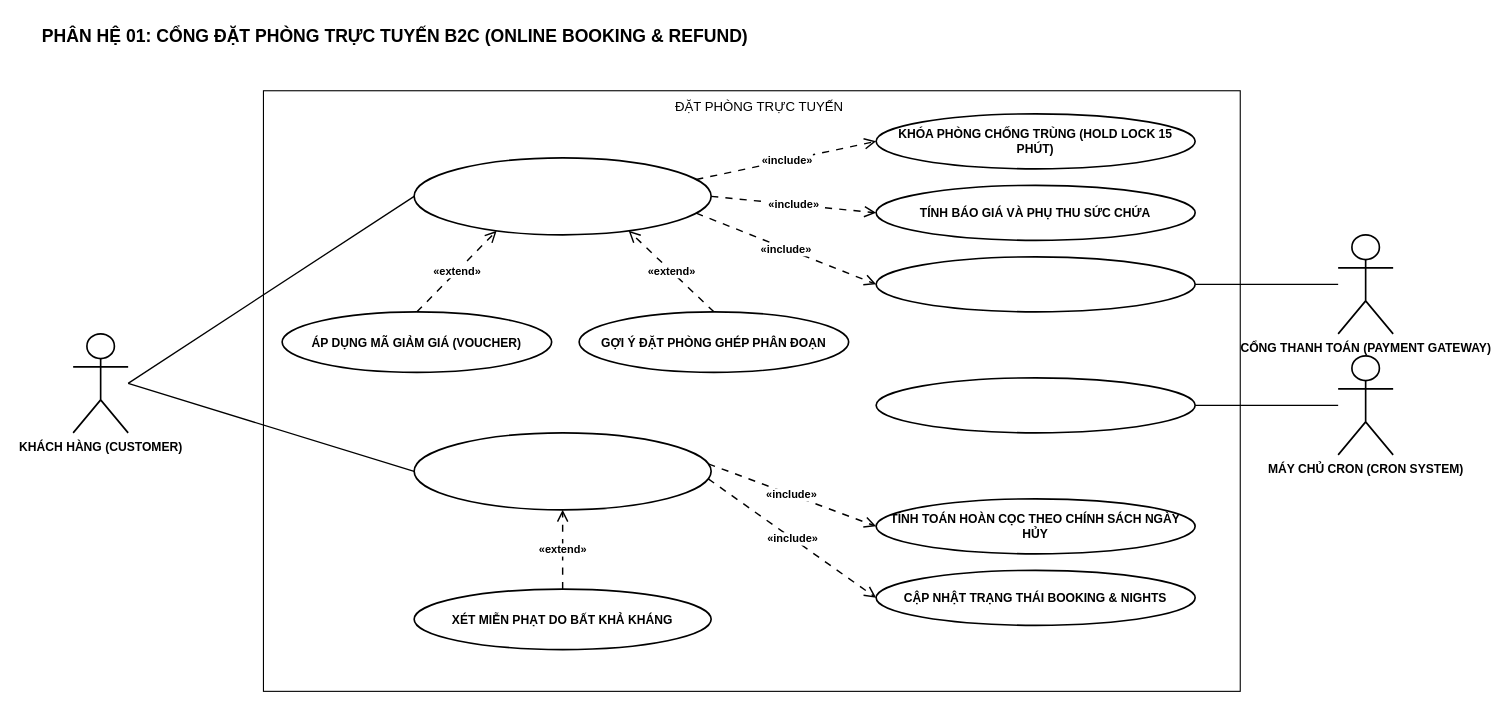
This 1509x711 diagram has some shape labels left out. The box of each missing label's shape, as (x1, y1, x2, y2) in pixels:
HỦY ĐẶT PHÒNG & HOÀN TIỀN: (413, 432, 711, 510)
QUÉT DỌN PHIÊN GIỮ PHÒNG QUÁ HẠN: (875, 377, 1195, 433)
XÁC THỰC CỔNG THANH TOÁN: (875, 256, 1195, 312)
ĐẶT PHÒNG TRỰC TUYẾN (B2C): (413, 157, 711, 235)
